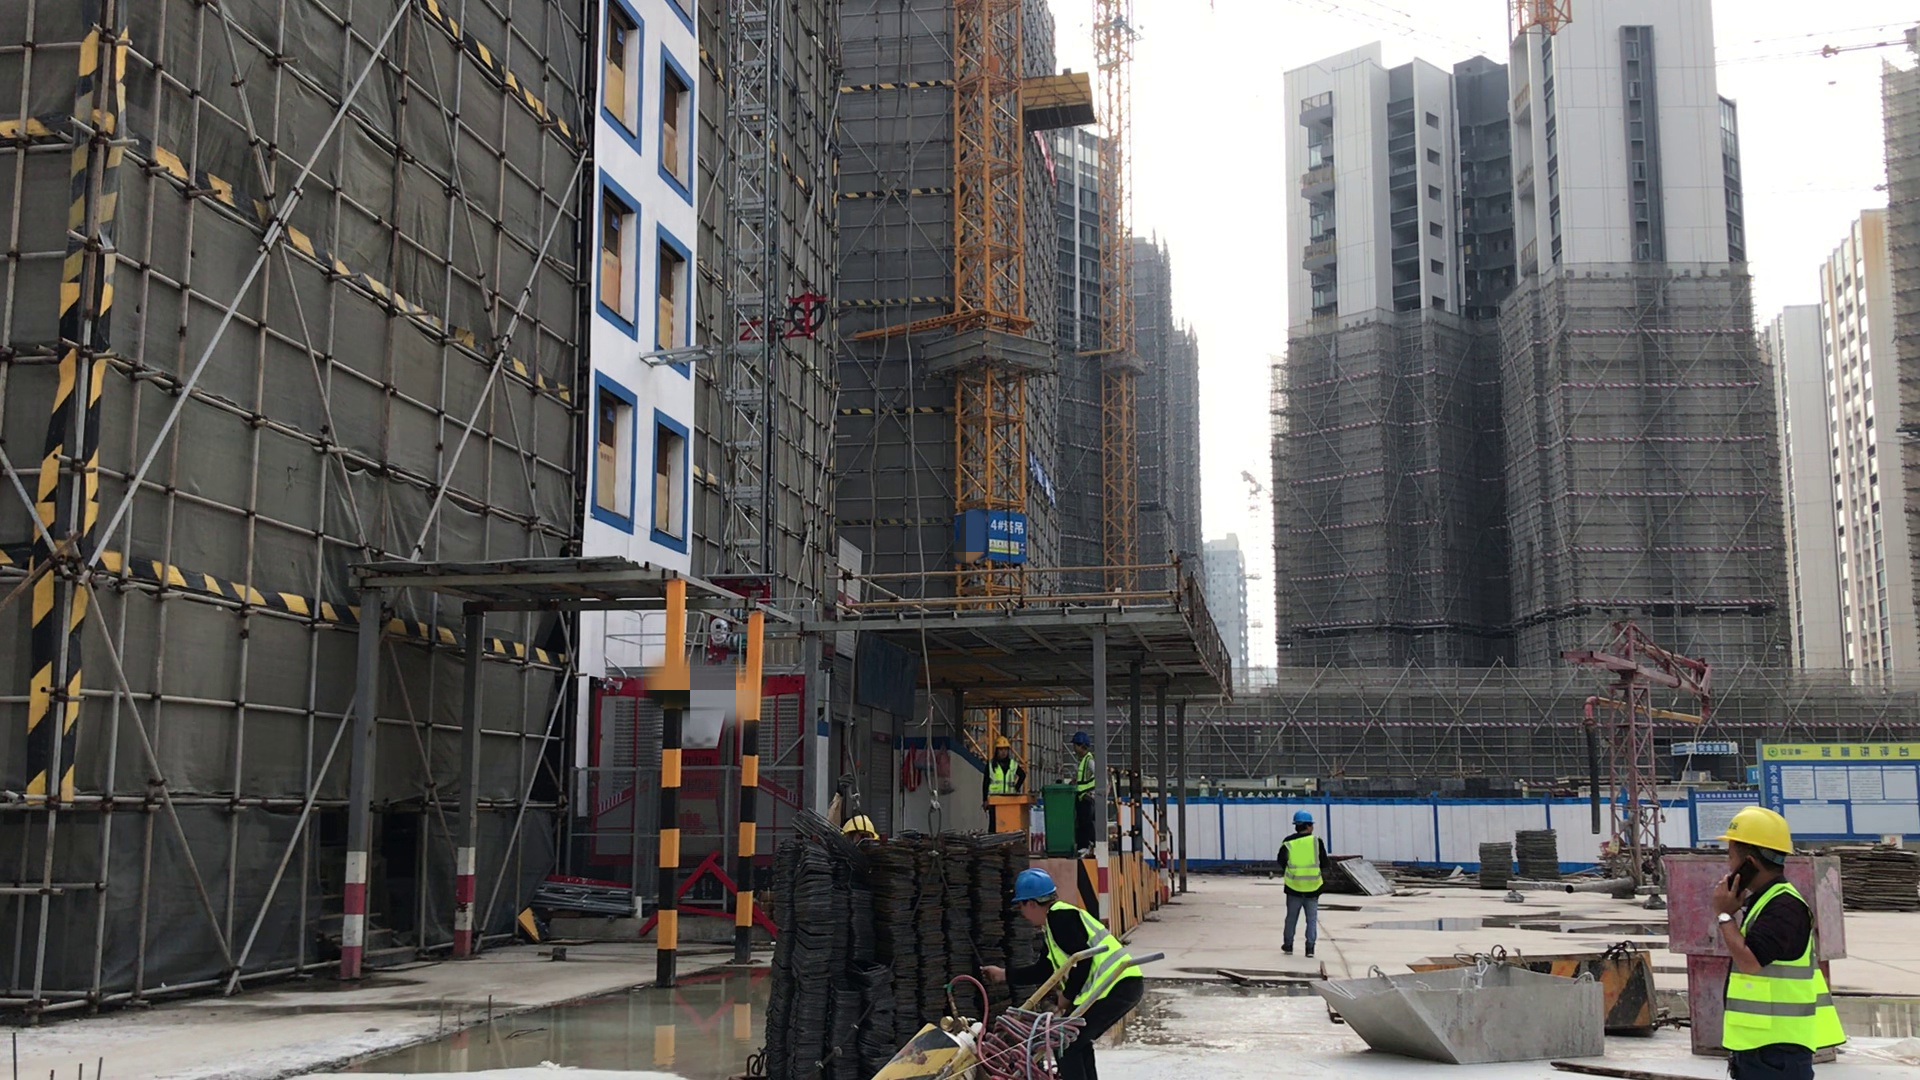board: (1843, 838, 1920, 922), (1515, 826, 1568, 884), (1473, 838, 1520, 894)
fence: (1085, 753, 1225, 894)
helmet: (1717, 795, 1799, 860), (1004, 868, 1058, 903), (838, 812, 885, 841), (1292, 807, 1317, 828), (990, 733, 1014, 750), (1068, 729, 1092, 747)
hopper: (1313, 965, 1622, 1066), (1556, 944, 1668, 1048)
person: (1710, 802, 1858, 1080), (1008, 867, 1144, 1080), (1274, 810, 1334, 956), (1066, 728, 1098, 860), (982, 729, 1030, 803)
vest: (1717, 879, 1849, 1066), (1043, 899, 1146, 1007), (1280, 835, 1328, 899), (987, 754, 1022, 797), (1070, 750, 1099, 800)
